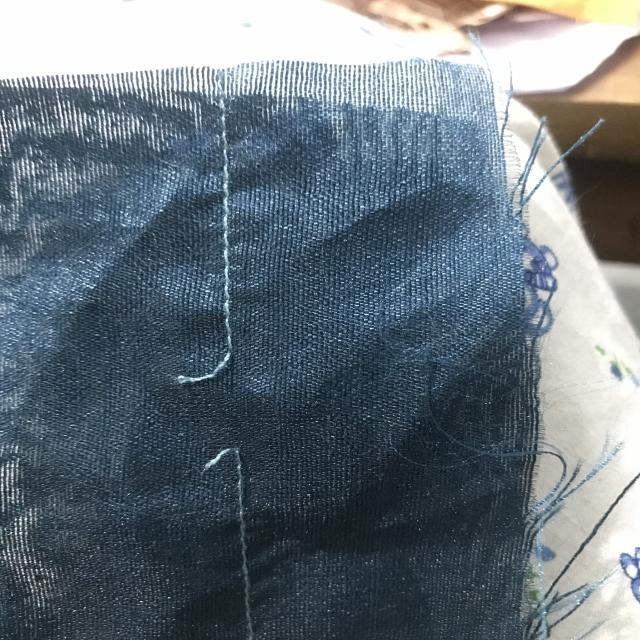broken: (159, 329, 287, 492)
good: (215, 191, 246, 293)
